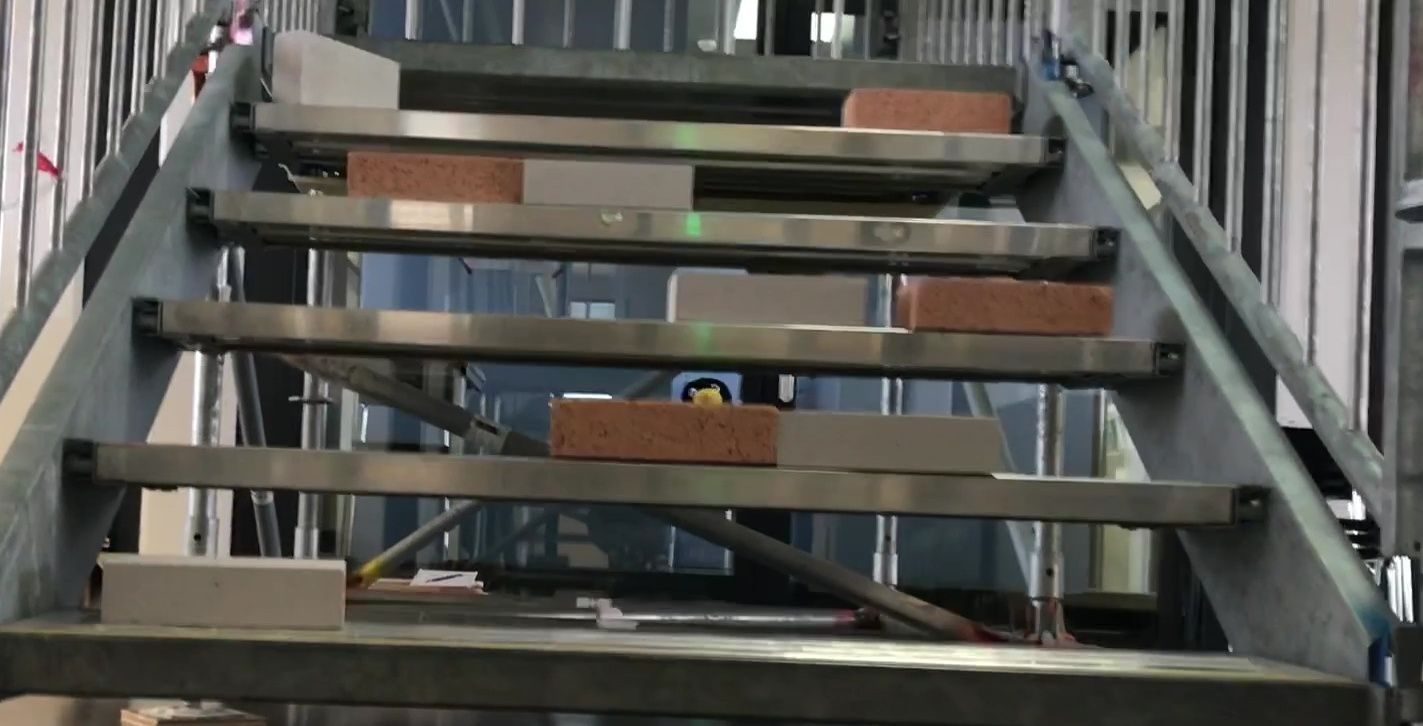brick: (104, 555, 343, 626), (550, 399, 772, 462), (781, 414, 999, 473), (900, 279, 1112, 333), (669, 272, 864, 326), (274, 33, 397, 109), (348, 153, 519, 201), (524, 161, 691, 209), (841, 88, 1007, 132)
edge: (1, 630, 1372, 725), (65, 438, 1266, 537), (128, 298, 1182, 390), (185, 186, 1122, 266), (231, 97, 1063, 179), (259, 29, 1022, 98)
